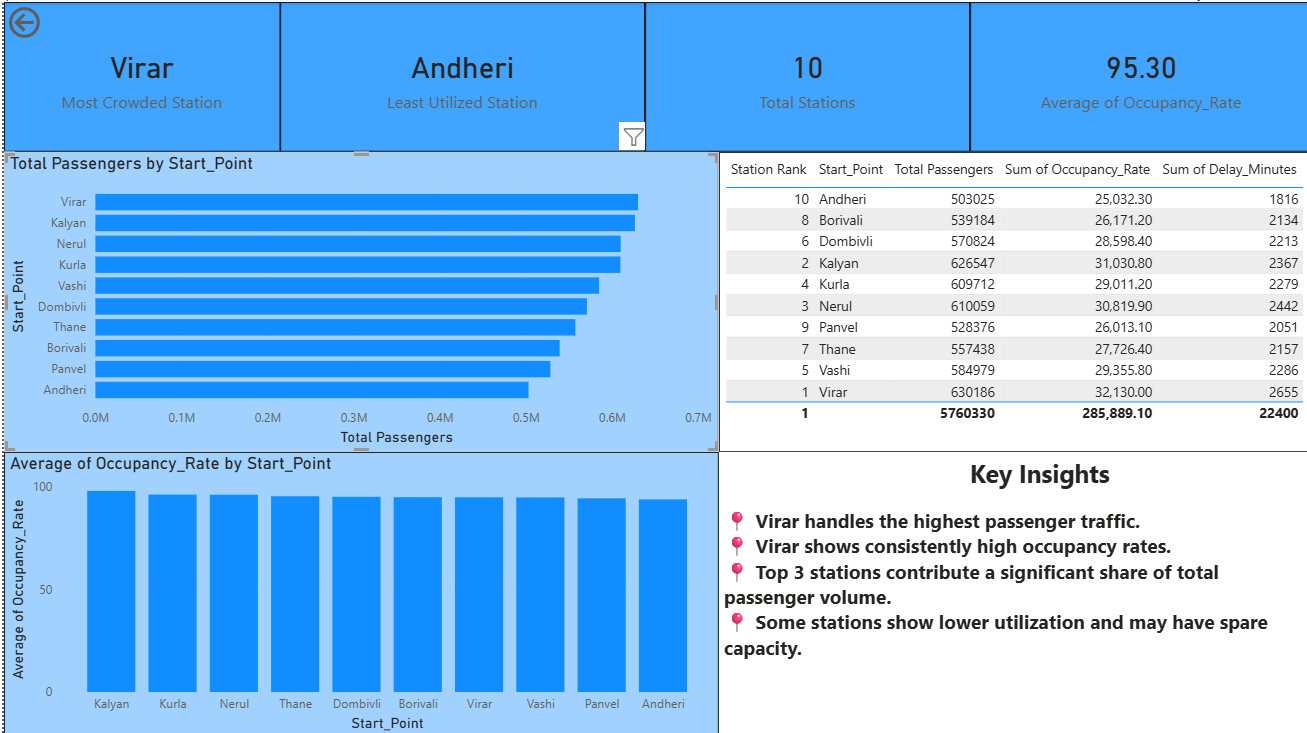

The dashboard page shown, as its layout file describes it:
{"tool":"powerbi","page":{"name":"Page 3","canvas":[1280,720],"ordinal":2},"visuals":[{"type":"card","fields":{"Values":["Mumbai_Local_Data.Most Crowded Station"]},"box":[0,0,270.2,146.7],"z":0},{"type":"card","fields":{"Values":["Mumbai_Local_Data.Least Utilized Station"]},"box":[270.2,0,357.1,146.7],"z":1000},{"type":"clusteredBarChart","fields":{"Category":["Mumbai_Local_Data.Start_Point"],"Y":["Mumbai_Local_Data.Total Passengers"]},"box":[0,146.7,699.5,293.5],"z":2000},{"type":"columnChart","fields":{"Category":["Mumbai_Local_Data.Start_Point"],"Y":["Avg(Mumbai_Local_Data.Occupancy_Rate)"]},"box":[0,440.2,699.5,280],"z":3000},{"type":"card","fields":{"Values":["Mumbai_Local_Data.Total Stations"]},"box":[627.3,0,317.9,146.7],"z":4000},{"type":"actionButton","box":[0,0,100,40],"z":5000},{"type":"card","fields":{"Values":["Avg(Mumbai_Local_Data.Occupancy_Rate)"]},"box":[945.2,0,335.1,146.7],"z":6000},{"type":"tableEx","fields":{"Values":["Mumbai_Local_Data.Station Rank","Mumbai_Local_Data.Start_Point","Mumbai_Local_Data.Total Passengers","Sum(Mumbai_Local_Data.Occupancy_Rate)","Sum(Mumbai_Local_Data.Delay_Minutes)"]},"box":[699.5,146.7,580.8,293.5],"z":7000},{"type":"textbox","box":[699,440,581,280],"z":8000}]}

Visuals, with their boxes in screenshot pixels (x1, y1, x2, y2), scaled from the page's 1280x720 canvas onto the 1307x733 screenshot:
card - Mumbai_Local_Data.Most Crowded Station: (x1=0, y1=0, x2=276, y2=149)
card - Mumbai_Local_Data.Least Utilized Station: (x1=276, y1=0, x2=641, y2=149)
clusteredBarChart - Mumbai_Local_Data.Start_Point x Mumbai_Local_Data.Total Passengers: (x1=0, y1=149, x2=714, y2=448)
columnChart - Mumbai_Local_Data.Start_Point x Avg(Mumbai_Local_Data.Occupancy_Rate): (x1=0, y1=448, x2=714, y2=732)
card - Mumbai_Local_Data.Total Stations: (x1=641, y1=0, x2=965, y2=149)
actionButton: (x1=0, y1=0, x2=102, y2=41)
card - Avg(Mumbai_Local_Data.Occupancy_Rate): (x1=965, y1=0, x2=1306, y2=149)
tableEx - Mumbai_Local_Data.Station Rank x Mumbai_Local_Data.Start_Point: (x1=714, y1=149, x2=1306, y2=448)
textbox: (x1=714, y1=448, x2=1306, y2=732)
